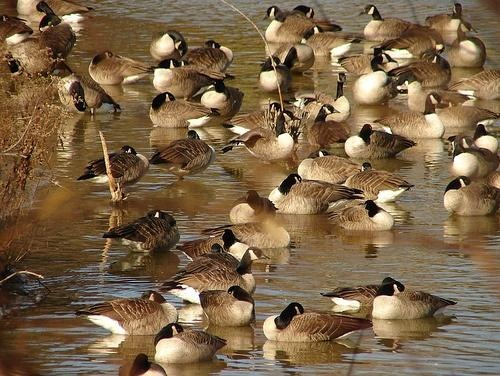bird: (158, 246, 274, 304), (75, 289, 181, 342), (262, 300, 371, 348), (202, 202, 298, 253), (81, 142, 149, 204), (266, 174, 362, 217), (226, 110, 298, 166), (370, 91, 453, 138), (150, 128, 219, 183), (104, 209, 181, 257), (387, 41, 460, 91), (287, 70, 352, 122), (323, 275, 409, 314), (372, 285, 454, 323), (151, 323, 228, 363), (345, 121, 419, 162), (150, 57, 220, 100), (57, 73, 121, 117), (344, 159, 411, 201), (358, 5, 434, 42), (354, 53, 405, 108), (224, 102, 299, 139), (199, 285, 258, 331), (397, 76, 468, 114), (149, 90, 217, 129), (443, 175, 500, 221), (88, 50, 156, 88), (260, 6, 323, 45), (305, 105, 356, 152), (296, 148, 364, 183), (329, 200, 400, 232), (273, 27, 321, 74), (251, 49, 298, 96), (453, 135, 500, 181), (448, 20, 488, 70), (203, 77, 247, 120), (183, 38, 234, 74), (301, 25, 364, 54), (337, 47, 400, 76), (433, 102, 497, 127), (150, 27, 189, 67), (426, 3, 474, 31)
